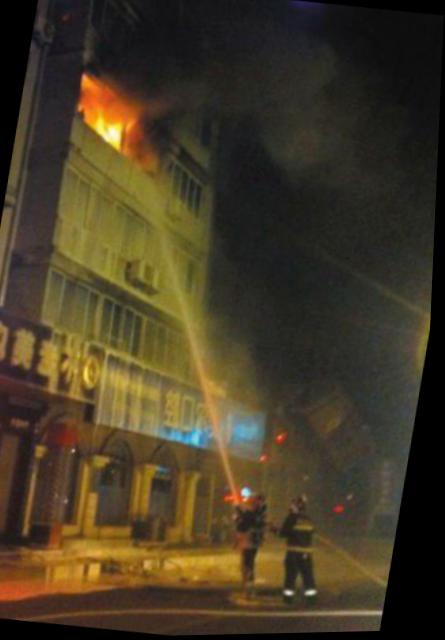fire: (76, 86, 136, 141)
